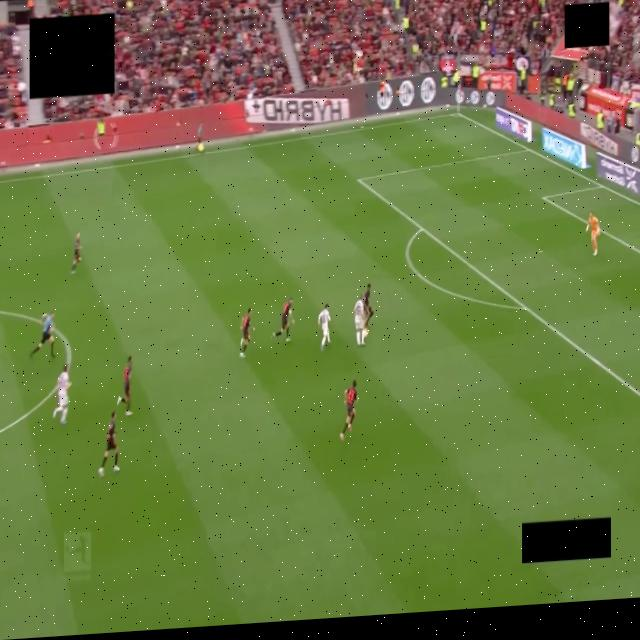player: (98, 411, 119, 476), (53, 364, 70, 424), (340, 380, 356, 440), (272, 299, 293, 341), (117, 356, 131, 416), (239, 308, 253, 358), (585, 212, 599, 255), (353, 296, 364, 345), (363, 284, 373, 336), (318, 304, 329, 351), (70, 233, 81, 274)
referee: (29, 312, 54, 357)
